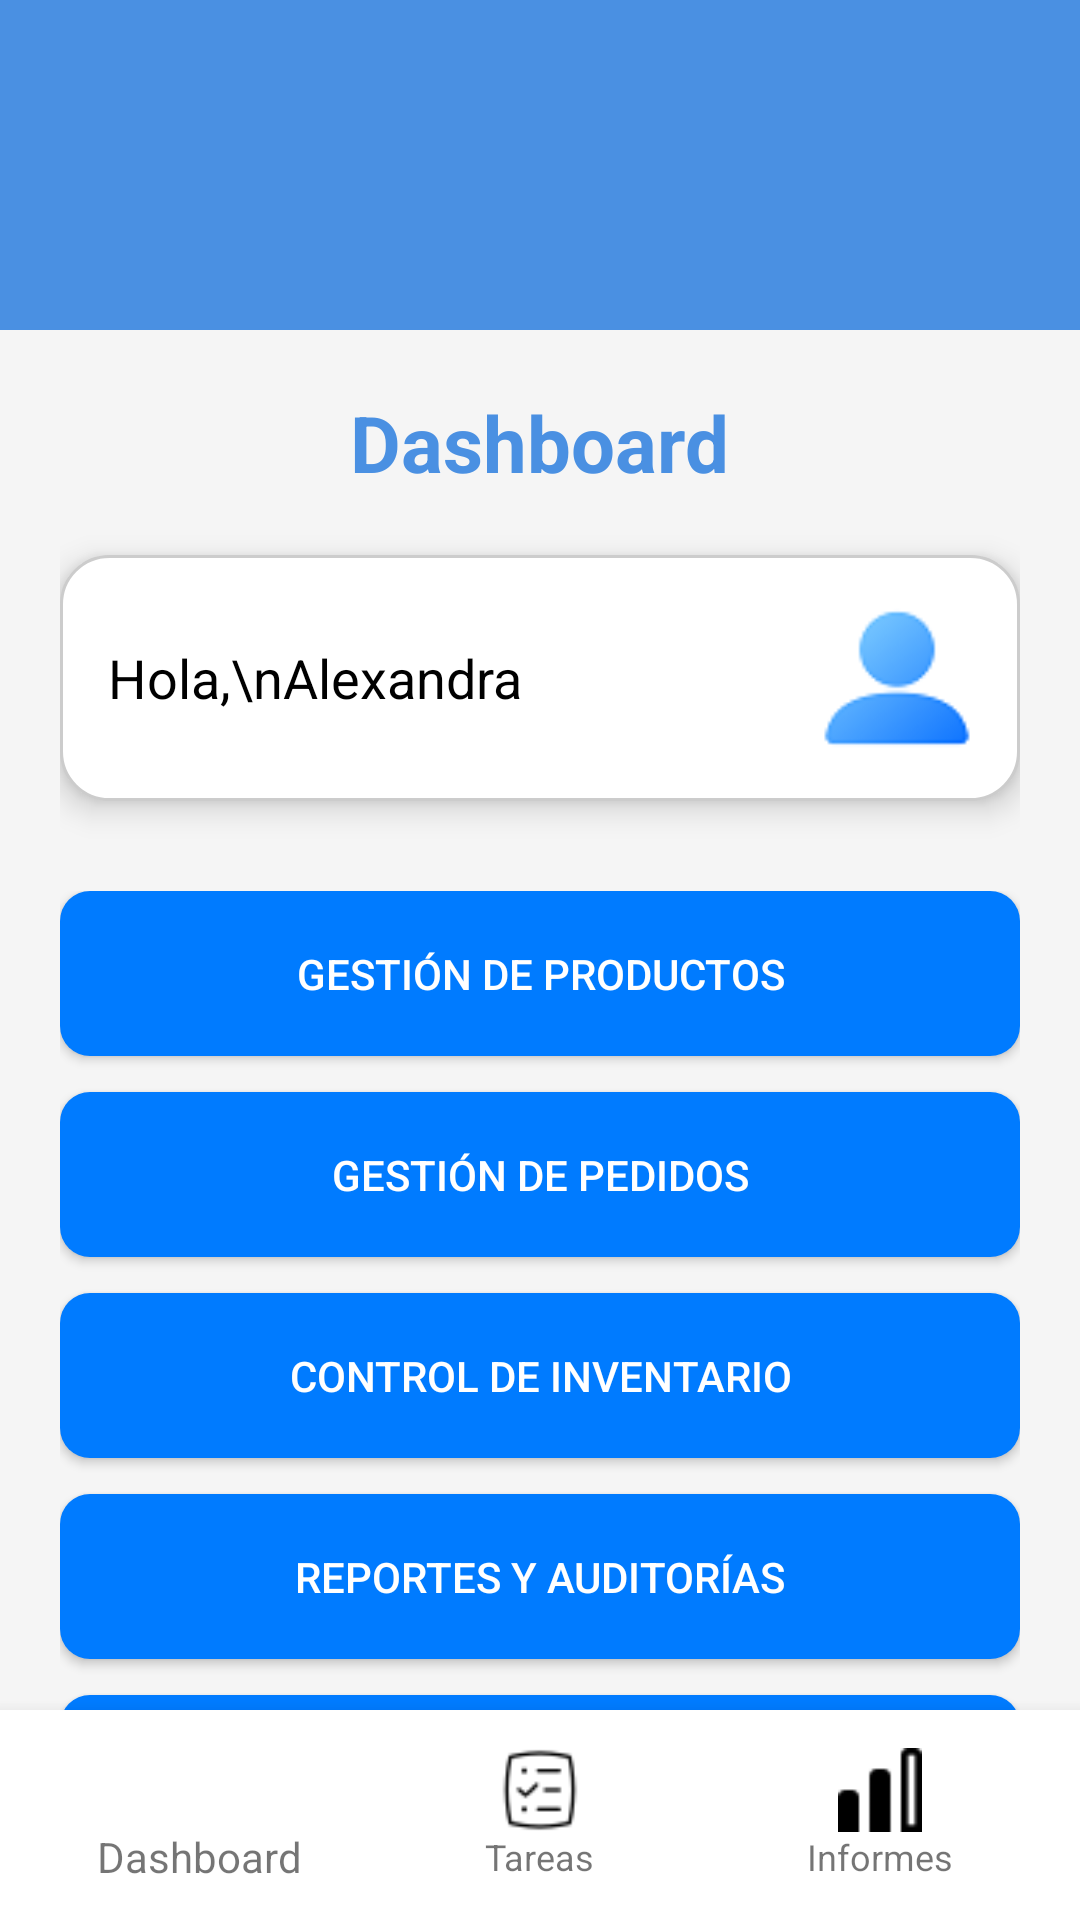

Where to tap for icons on this 1080x1920 app screen, as (x=x, y=y):
user: (x=897, y=678)
